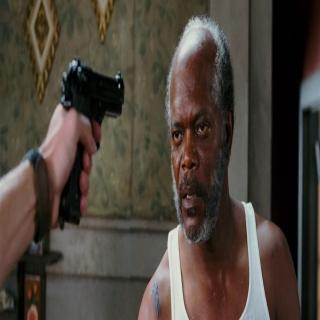gun: (74, 51, 125, 222)
